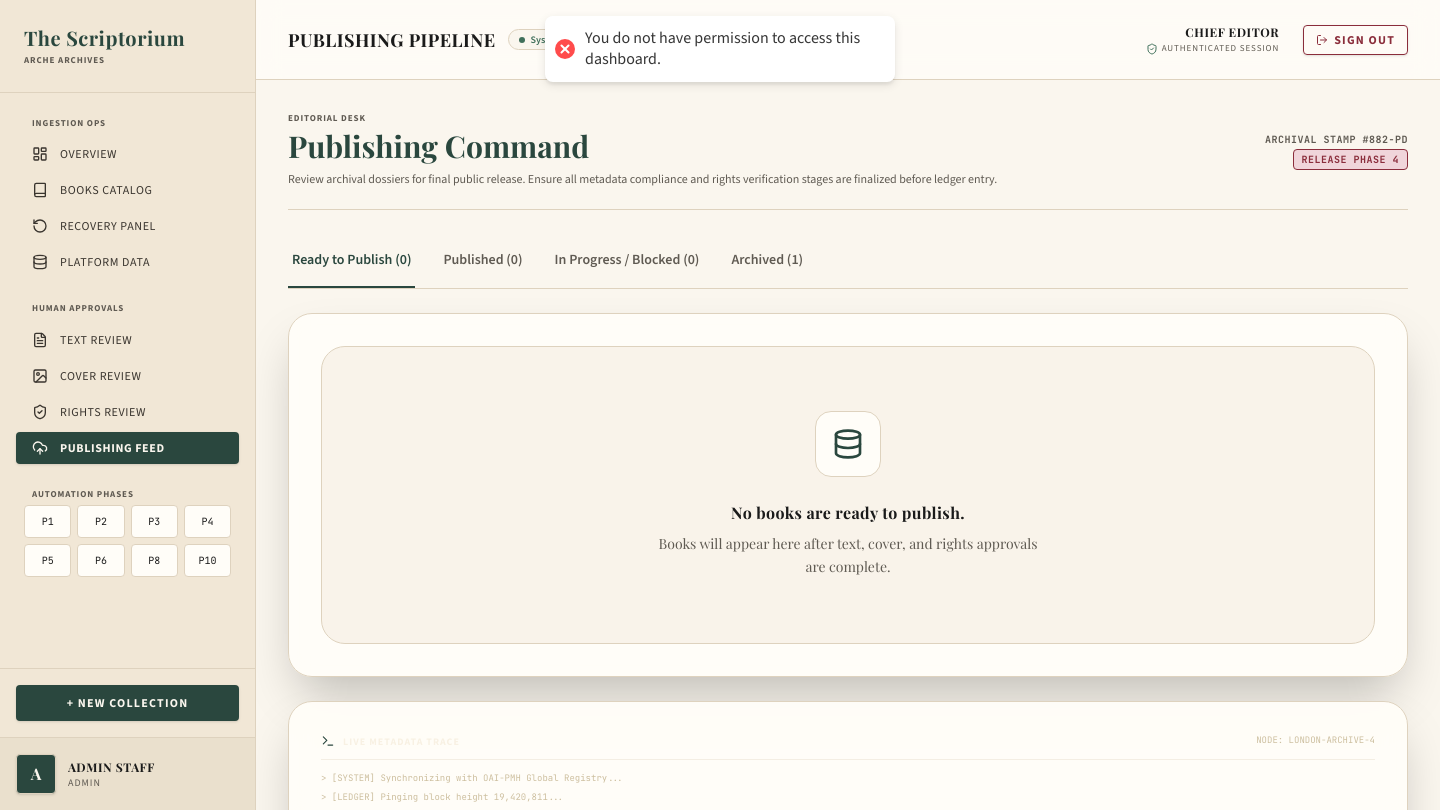
Arche Archives Role Gating & Permissions Integration Tests › Archived tab renders on the publishing board and archived books display inside it
# Click the Archived tab
Click the button "Archived (1)".
click(767, 261)  # box x1=727 y1=234 x2=807 y2=288
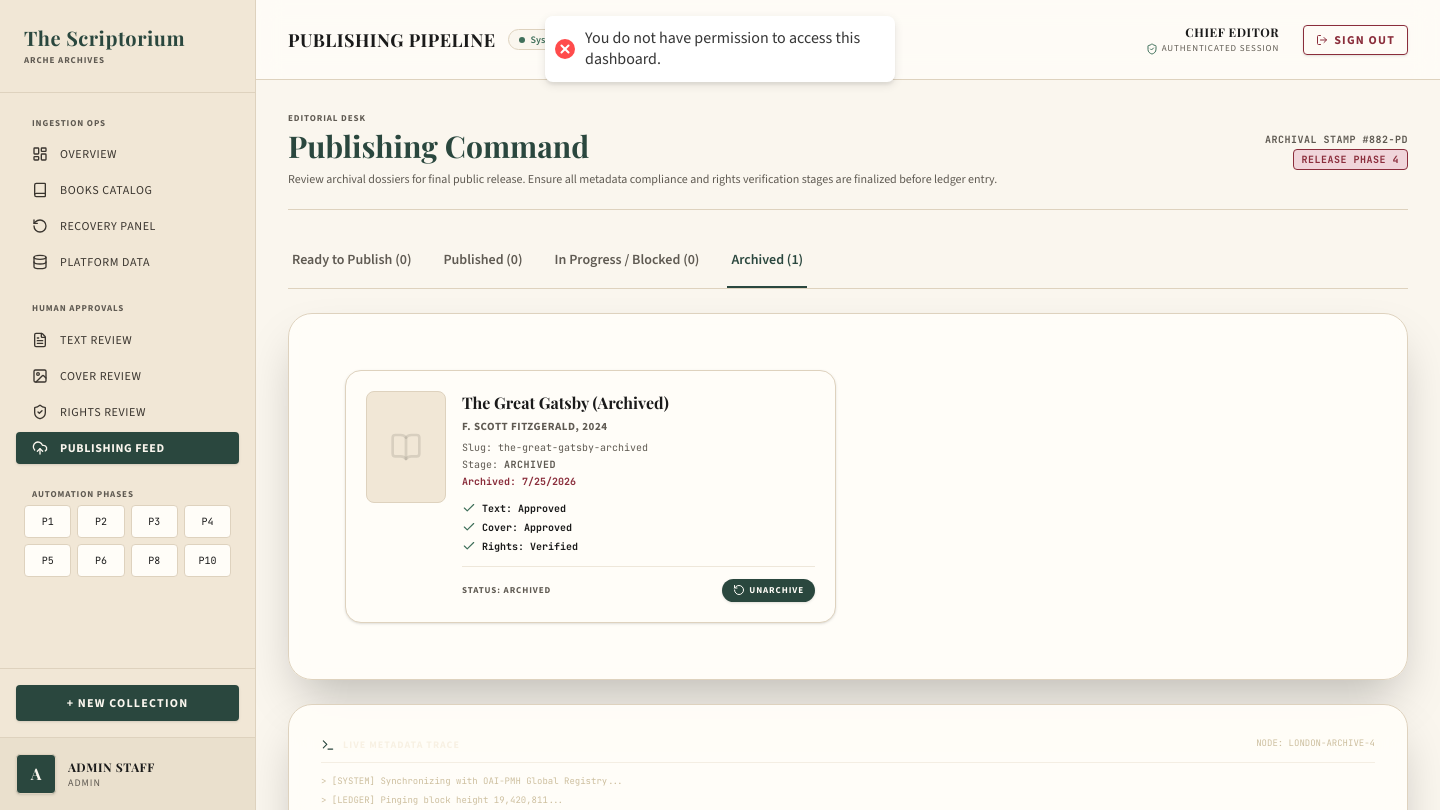
Now the heading "The Great Gatsby (Archived)" is shown, box x1=462 y1=392 x2=669 y2=413
Now the text "Slug: the-great-gatsby-archived" is shown, box x1=462 y1=440 x2=648 y2=454
Now the text "Archived: 7/25/2026" is shown, box x1=462 y1=474 x2=576 y2=488
